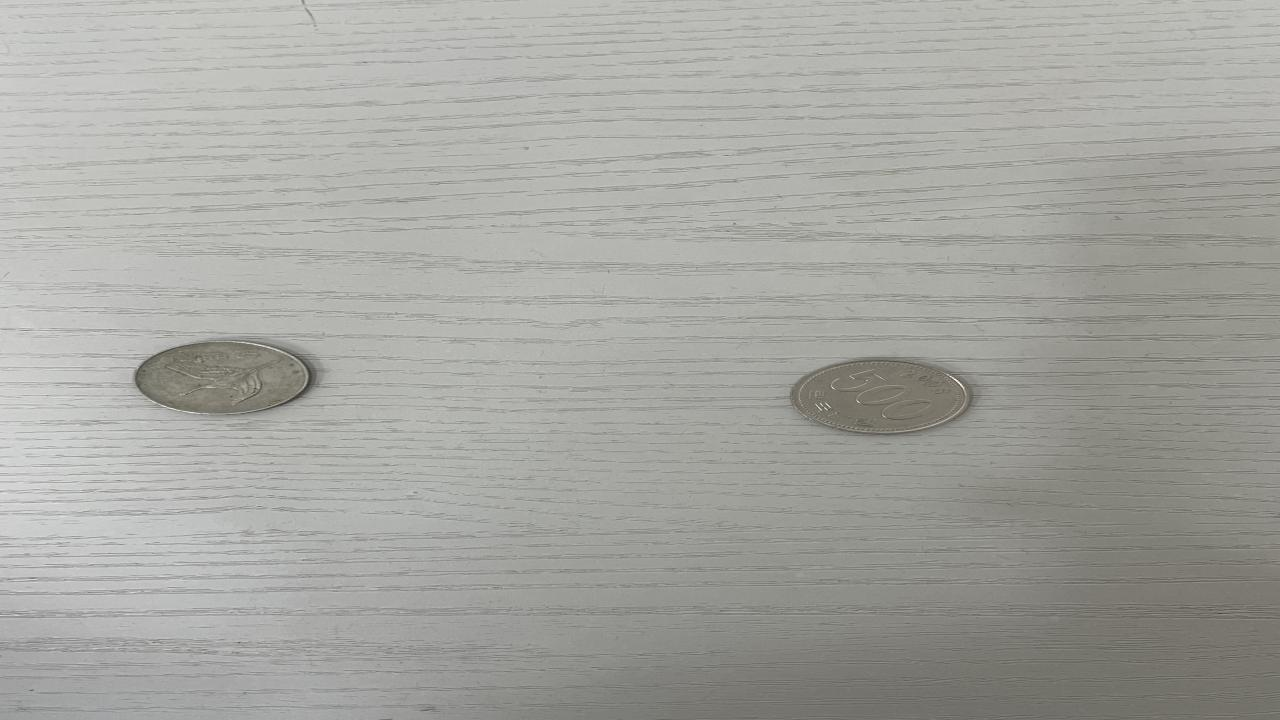coin: (129, 338, 318, 416), (791, 358, 976, 434)
